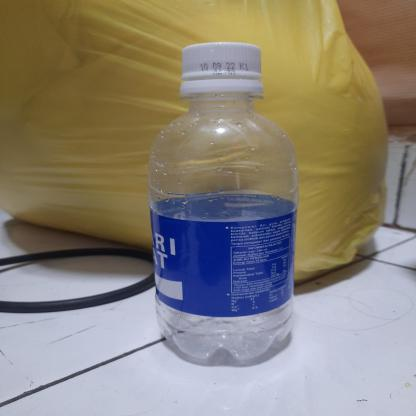bottle: (144, 40, 300, 369)
